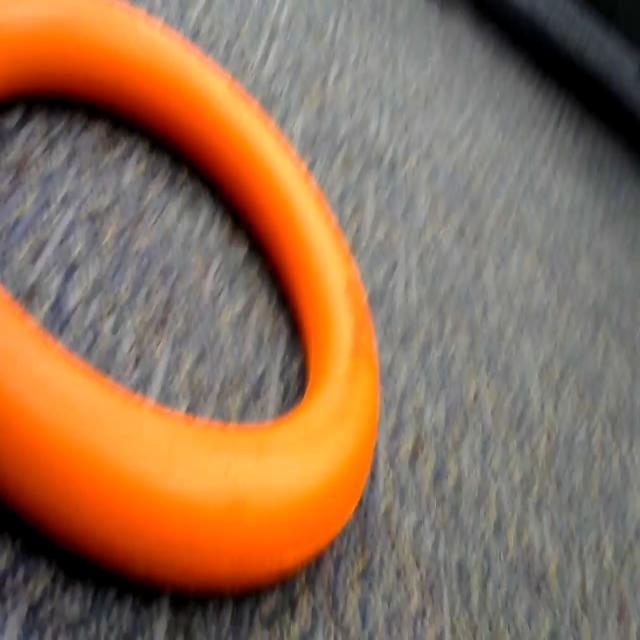note: (0, 0, 393, 596)
